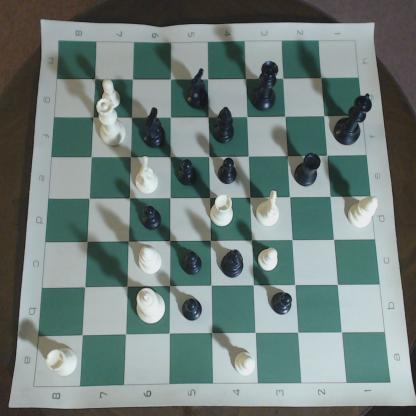black-bishop: (223, 247, 249, 285), (216, 105, 237, 146)
black-king: (336, 90, 374, 154)
black-knight: (141, 108, 170, 153), (184, 72, 208, 110)
black-pawn: (270, 288, 305, 320), (181, 249, 208, 283), (181, 295, 208, 327), (142, 202, 168, 234), (219, 156, 244, 188), (179, 157, 201, 190)
black-queen: (250, 59, 288, 118)
black-rook: (293, 152, 325, 192)
white-bishop: (345, 193, 383, 236), (137, 242, 169, 282)
white-king: (133, 287, 169, 329)
white-knight: (259, 188, 287, 230), (136, 158, 163, 201)
white-pawn: (254, 246, 287, 280), (234, 344, 263, 381)
white-queen: (93, 99, 129, 152)
white-rook: (46, 342, 88, 383), (211, 193, 242, 233)
